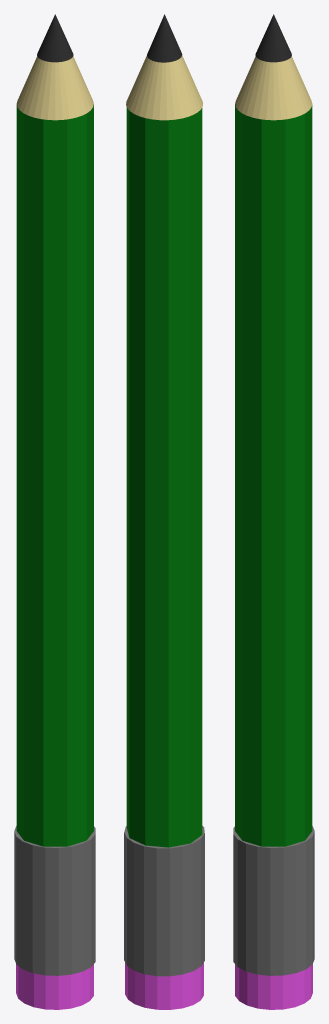
The model's file is pencil3.fbx.
3 views of the same model, side by side, from view 1: azimuth 90°, elevation 25°; view 2: azimuth 150°, elevation 25°; view 3: azimuth 270°, elevation 25° (orthographic).
Visible parts, largest first — view 1: Cylinder, Cylinder.001, Cone, Cylinder.002, Cone.001; view 2: Cylinder, Cylinder.001, Cone, Cylinder.002, Cone.001; view 3: Cylinder, Cylinder.001, Cone, Cylinder.002, Cone.001.
Boxes of the visible parts, bbox=[...] form: Cylinder: bbox=[16, 104, 93, 846]; Cylinder.001: bbox=[14, 826, 95, 975]; Cone: bbox=[16, 56, 93, 120]; Cylinder.002: bbox=[16, 964, 93, 1009]; Cone.001: bbox=[37, 14, 73, 62]; Cylinder: bbox=[126, 107, 202, 847]; Cylinder.001: bbox=[124, 826, 204, 976]; Cone: bbox=[126, 55, 202, 120]; Cylinder.002: bbox=[125, 962, 203, 1009]; Cone.001: bbox=[147, 14, 182, 62]; Cylinder: bbox=[235, 104, 312, 846]; Cylinder.001: bbox=[233, 826, 314, 975]; Cone: bbox=[235, 56, 312, 120]; Cylinder.002: bbox=[235, 964, 312, 1009]; Cone.001: bbox=[255, 14, 291, 62].
Bounding box in the file's own units: 35.34 × 475 × 35.88.
